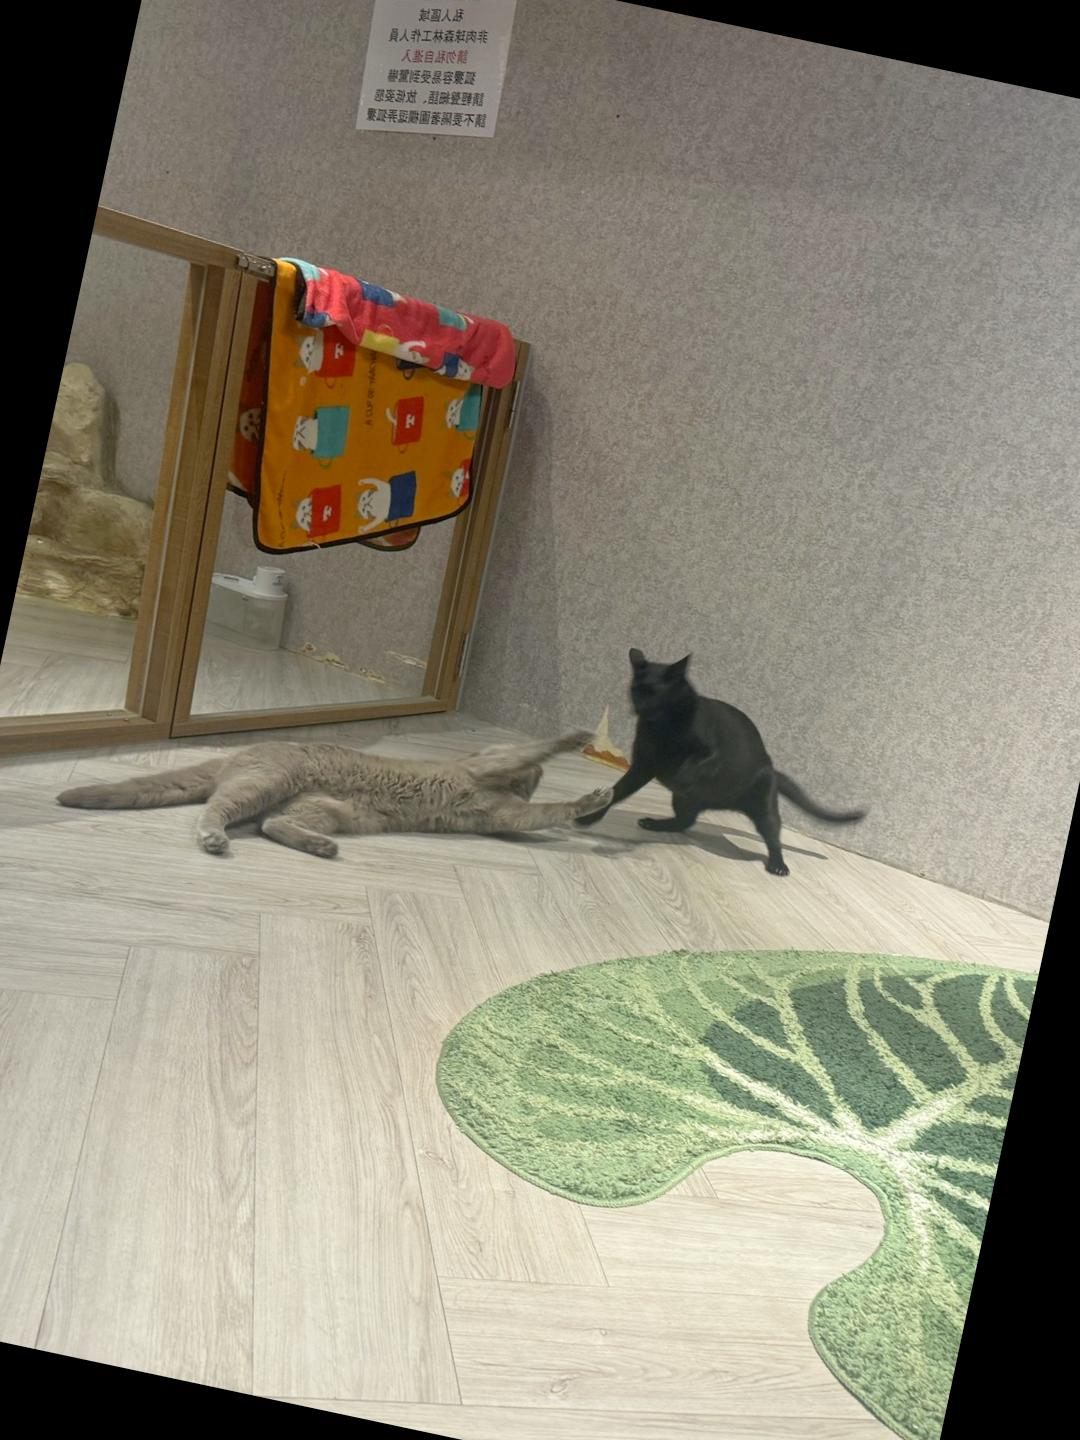cat: (50, 620, 628, 935), (569, 633, 895, 892)
